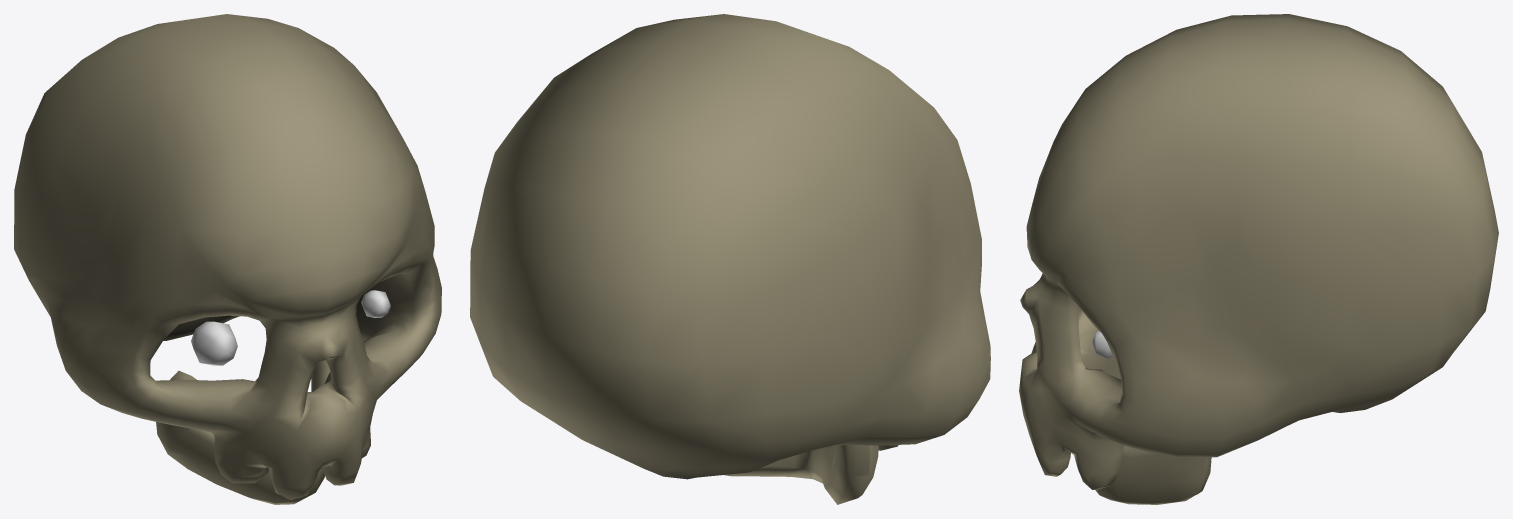
Rendered from skeleton Head.fbx.
The picture shows the model from 3 angles, left to right: view 1: azimuth 30°, elevation 25°; view 2: azimuth 150°, elevation 25°; view 3: azimuth 270°, elevation 25°; orthographic projection. The views are drawn at different scales.
Visible parts, largest first — view 1: Head; view 2: Head; view 3: Head.
Part boxes in pixels (bbox=[...]): Head: bbox=[14, 14, 441, 504]; Head: bbox=[470, 14, 990, 504]; Head: bbox=[1019, 14, 1498, 504].
Size of the model in its own units: 28.24 by 31.13 by 29.85.
